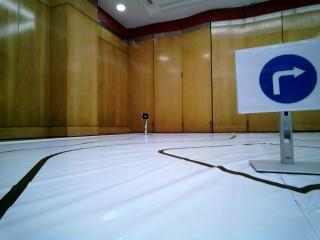right: (237, 49, 320, 108)
